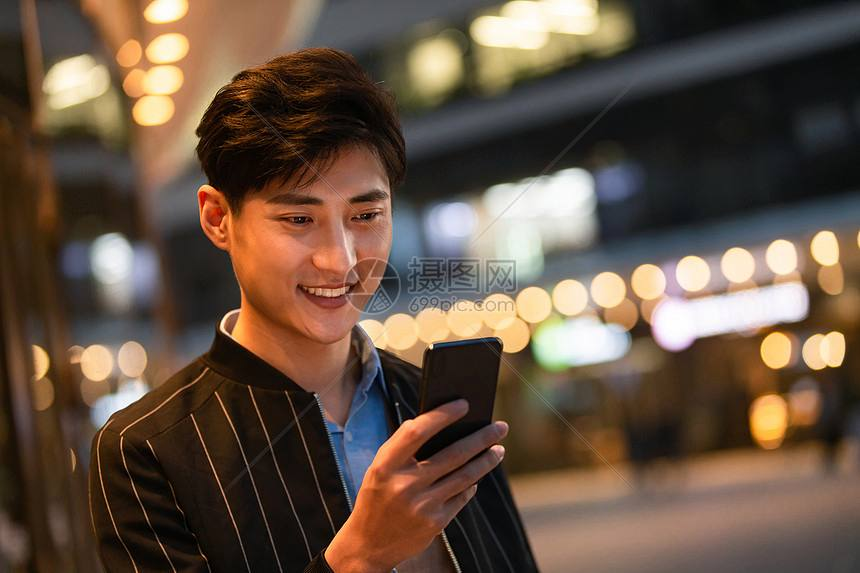reading: (326, 330, 515, 566)
